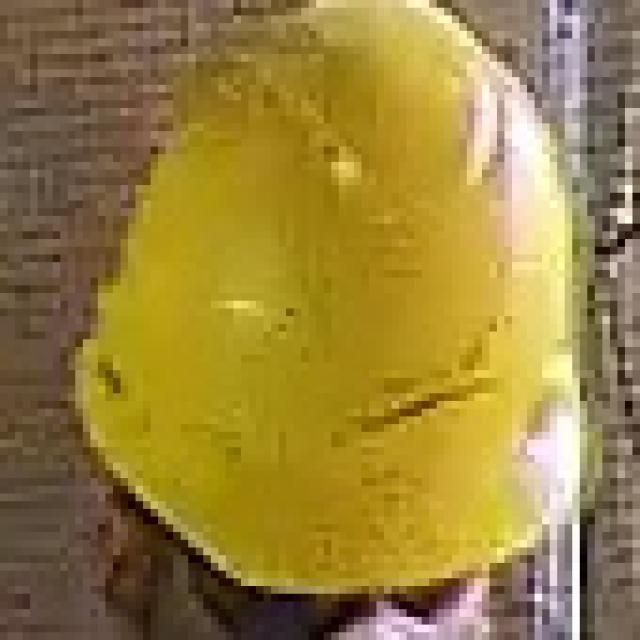yellow helmet: (74, 1, 601, 606)
